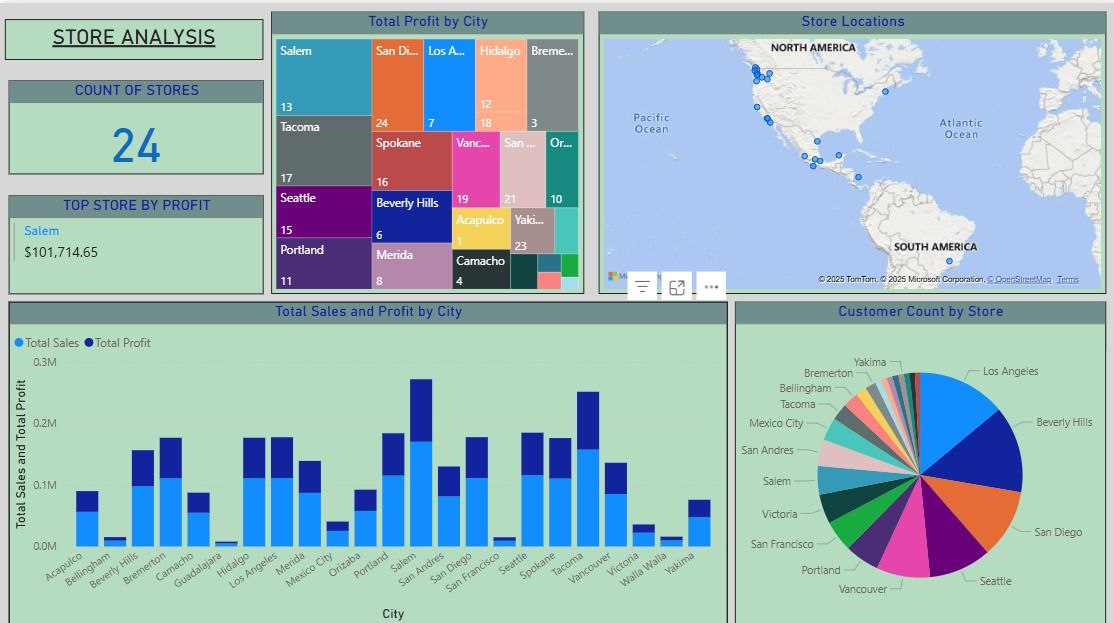

This screenshot's page, from the dashboard's own definition file:
{"tool":"powerbi","page":{"name":"Store Analysis","canvas":[1280,720],"ordinal":3},"visuals":[{"type":"card","title":"COUNT OF STORES","fields":{"Values":["CountNonNull(Market_Stores.store_id)"]},"box":[10,88.8,291.2,107.5],"z":0},{"type":"map","title":"Store Locations","fields":{"Category":["Market_Stores.store_city"]},"box":[683.8,10,580,322.5],"z":1000},{"type":"columnChart","title":"Total Sales and Profit by City","fields":{"Category":["Market_Stores.store_city"],"Y":["Transactions _1997.Total Sales","Transactions _1997.Total Profit"]},"box":[10,341.2,821.2,370],"z":2000},{"type":"pieChart","title":"Customer Count by Store","fields":{"Category":["Market_Stores.store_city","Market_Stores.store_name"],"Y":["Calendar.Distinct Customer Count"]},"box":[840,341.2,423.8,370],"z":3000},{"type":"treemap","title":"Total Profit by City","fields":{"Group":["Market_Stores.store_city"],"Values":["Transactions _1997.Total Profit"],"Details":["Market_Stores.store_id"]},"box":[310,10,357.5,322.5],"z":4000},{"type":"multiRowCard","title":"TOP STORE BY PROFIT","fields":{"Values":["Market_Stores.store_city","Transactions _1997.Total Profit"]},"box":[10,220,291.2,112.5],"z":5000},{"type":"textbox","box":[6.2,18.8,295,46.2],"z":6000}]}

Visuals, with their boxes in screenshot pixels (x1, y1, x2, y2), scaled from the page's 1280x720 canvas onto the 1114x623 screenshot:
"COUNT OF STORES" card: [left=9, top=77, right=262, bottom=170]
"Store Locations" map: [left=595, top=9, right=1100, bottom=288]
"Total Sales and Profit by City" columnChart: [left=9, top=295, right=723, bottom=615]
"Customer Count by Store" pieChart: [left=731, top=295, right=1100, bottom=615]
"Total Profit by City" treemap: [left=270, top=9, right=581, bottom=288]
"TOP STORE BY PROFIT" multiRowCard: [left=9, top=190, right=262, bottom=288]
textbox: [left=5, top=16, right=262, bottom=56]
